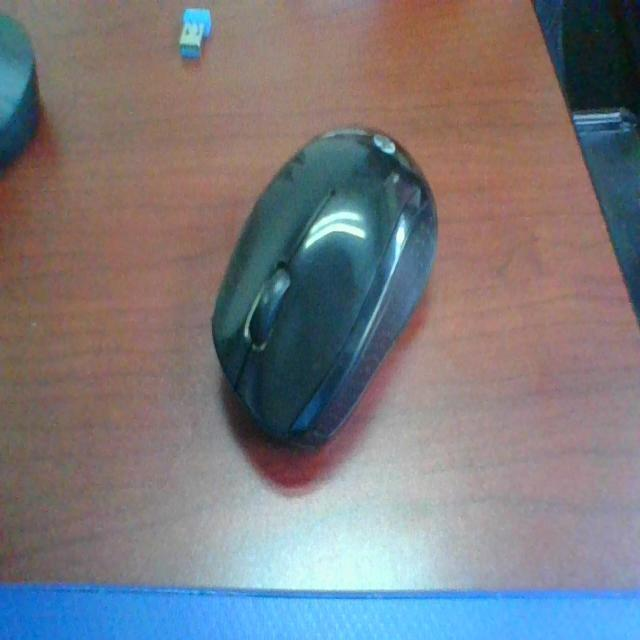mouse: (208, 124, 490, 477)
